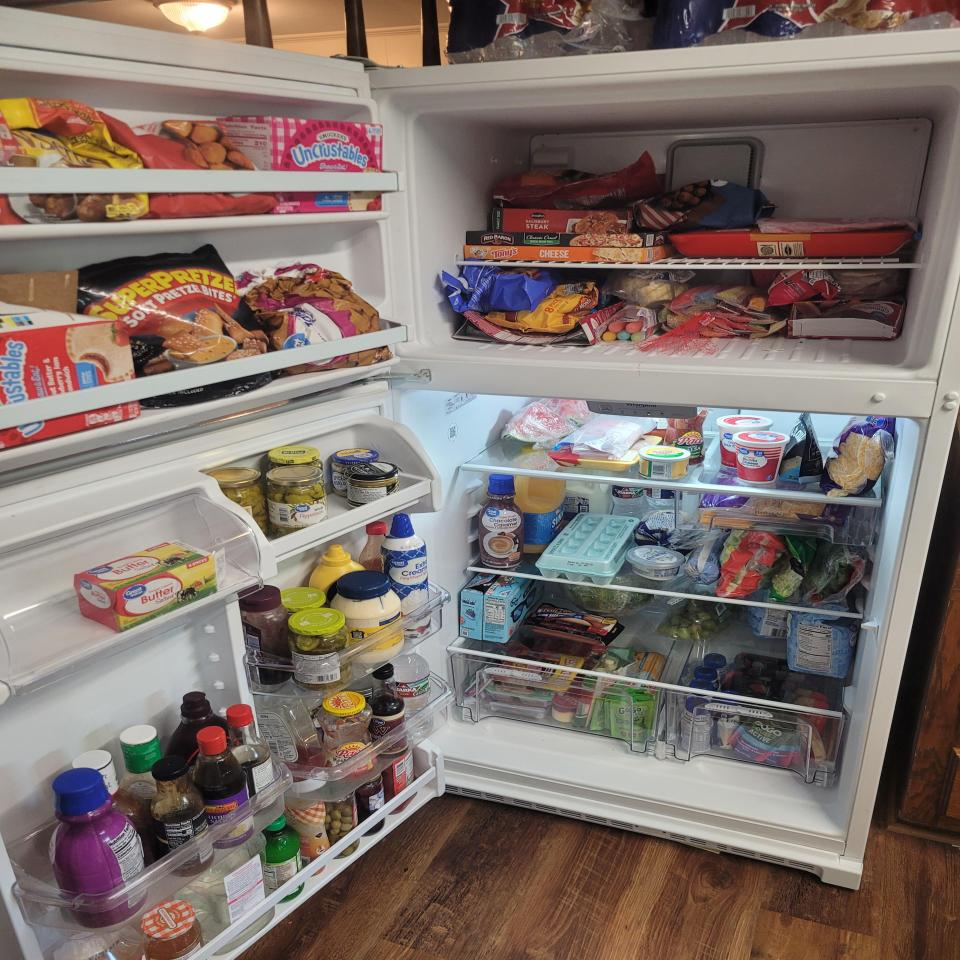Carne pollo: (548, 435, 663, 472)
Huevos: (536, 512, 640, 586)
Leche: (564, 479, 612, 525)
Mantequilla: (73, 539, 228, 633)
